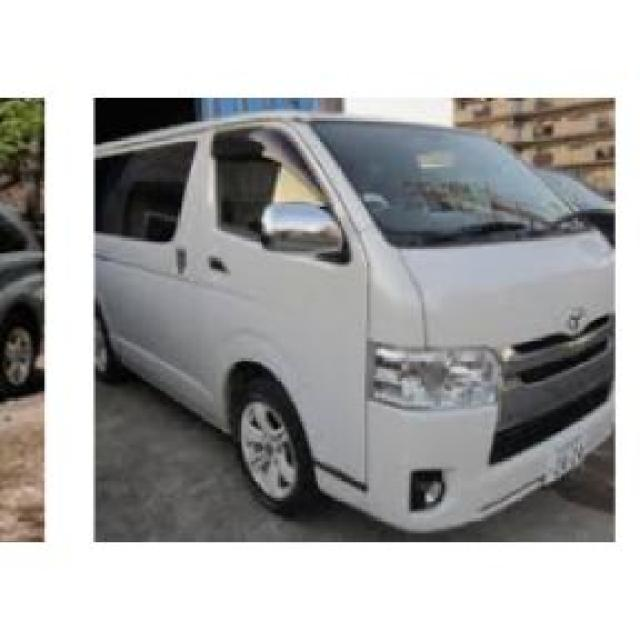Van: (99, 119, 612, 526)
